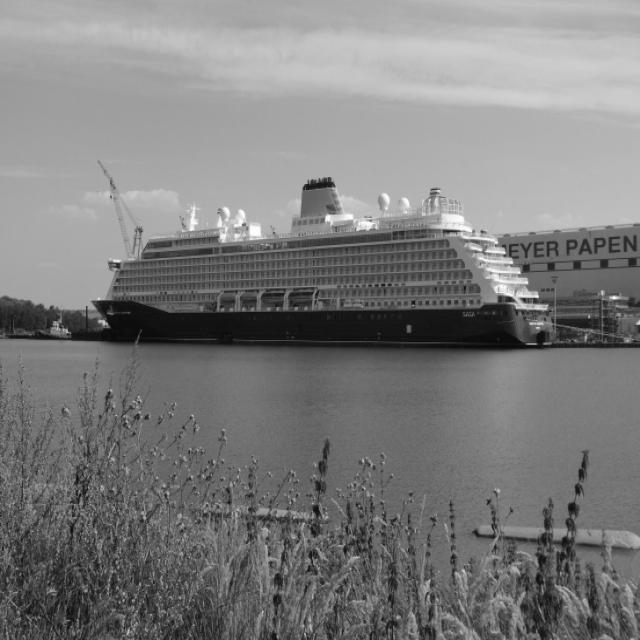cruises: (90, 172, 560, 357)
